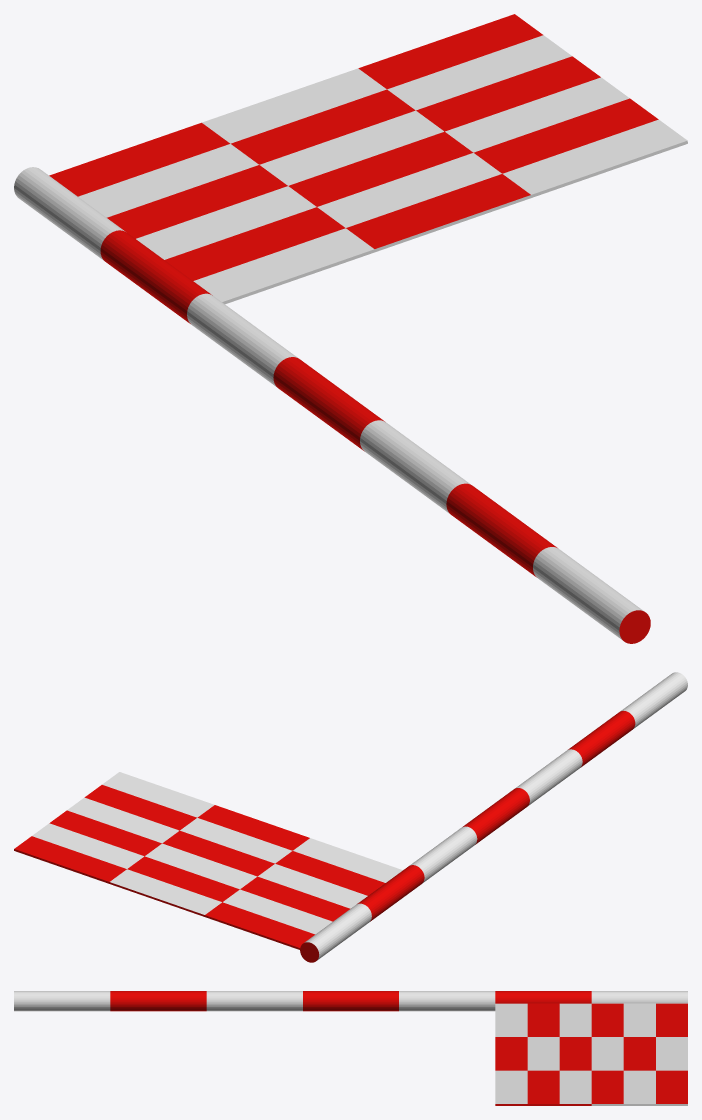
Rendered from Flag.fbx.
3 views of the same model, one above another, from view 1: azimuth 30°, elevation 25°; view 2: azimuth 150°, elevation 25°; view 3: azimuth 270°, elevation 25° (orthographic). The views are drawn at different scales.
Parts seen in each view (by area): view 1: Cylinder; view 2: Cylinder; view 3: Cylinder.
Part boxes in pixels (x1,y1,x2,y2): Cylinder: (14,14,687,643); Cylinder: (14,672,687,962); Cylinder: (14,991,687,1105).
Size of the model in its own units: 95.57 by 12.41 by 200.
